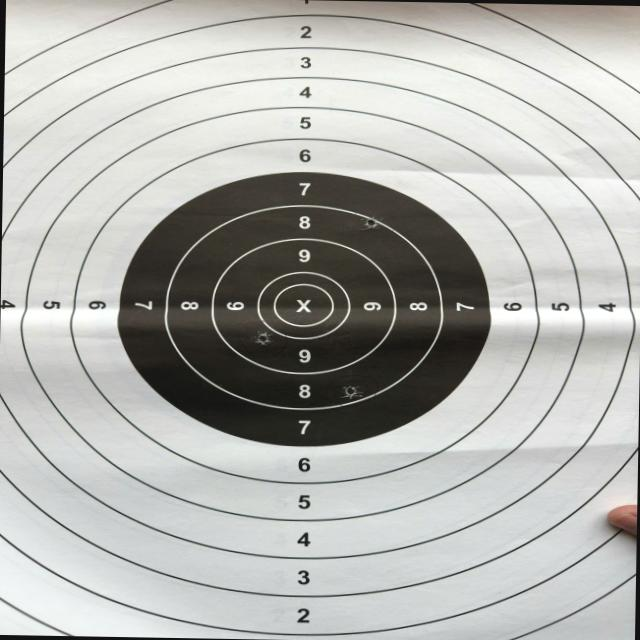bullet: (341, 384, 363, 400), (254, 331, 271, 345), (364, 217, 380, 229)
target: (0, 0, 640, 640)
